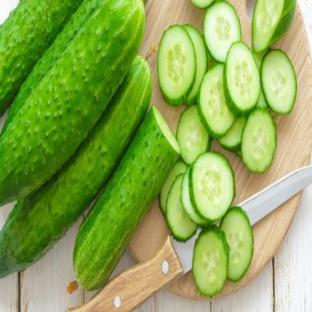Cucumber: (0, 58, 151, 277), (0, 0, 144, 204), (74, 107, 179, 289), (1, 0, 102, 133), (0, 0, 81, 114), (189, 153, 235, 221), (158, 25, 196, 106), (224, 42, 261, 116), (198, 65, 234, 138), (193, 225, 229, 296), (221, 207, 253, 281), (204, 1, 241, 63), (262, 50, 297, 114), (242, 109, 276, 172), (167, 174, 197, 241), (177, 106, 210, 164), (184, 25, 207, 106), (181, 168, 209, 226), (160, 161, 187, 215), (219, 117, 246, 151), (254, 49, 270, 70), (254, 50, 268, 70), (207, 50, 217, 70), (257, 88, 267, 108), (236, 150, 241, 157)
